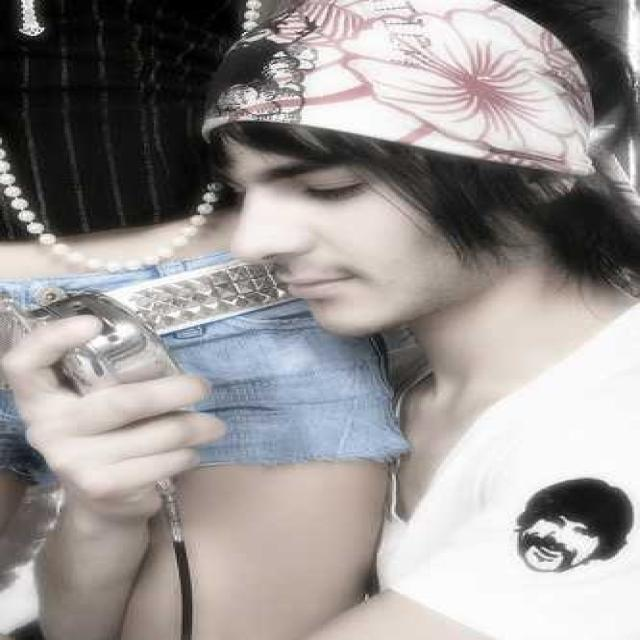microphone: (10, 270, 244, 438)
